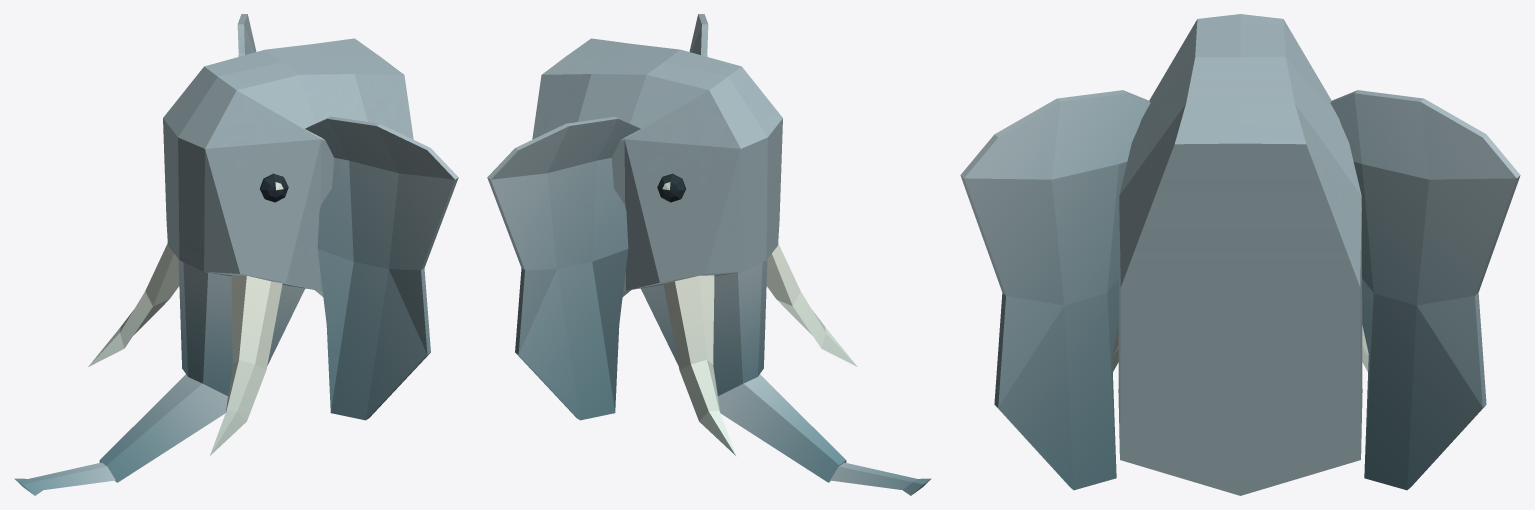
Rendered from Elephant_Head.fbx.
The picture shows the model from 3 angles, left to right: view 1: azimuth 30°, elevation 25°; view 2: azimuth 150°, elevation 25°; view 3: azimuth 270°, elevation 25°; orthographic projection. The views are drawn at different scales.
Visible parts, largest first — view 1: Elephant_Head; view 2: Elephant_Head; view 3: Elephant_Head.
Part boxes in pixels (left/top/right/bottom): Elephant_Head: left=14, top=14, right=458, bottom=495; Elephant_Head: left=487, top=14, right=931, bottom=495; Elephant_Head: left=960, top=14, right=1520, bottom=495.
Size of the model in its own units: 97.63 by 96.32 by 99.13.
